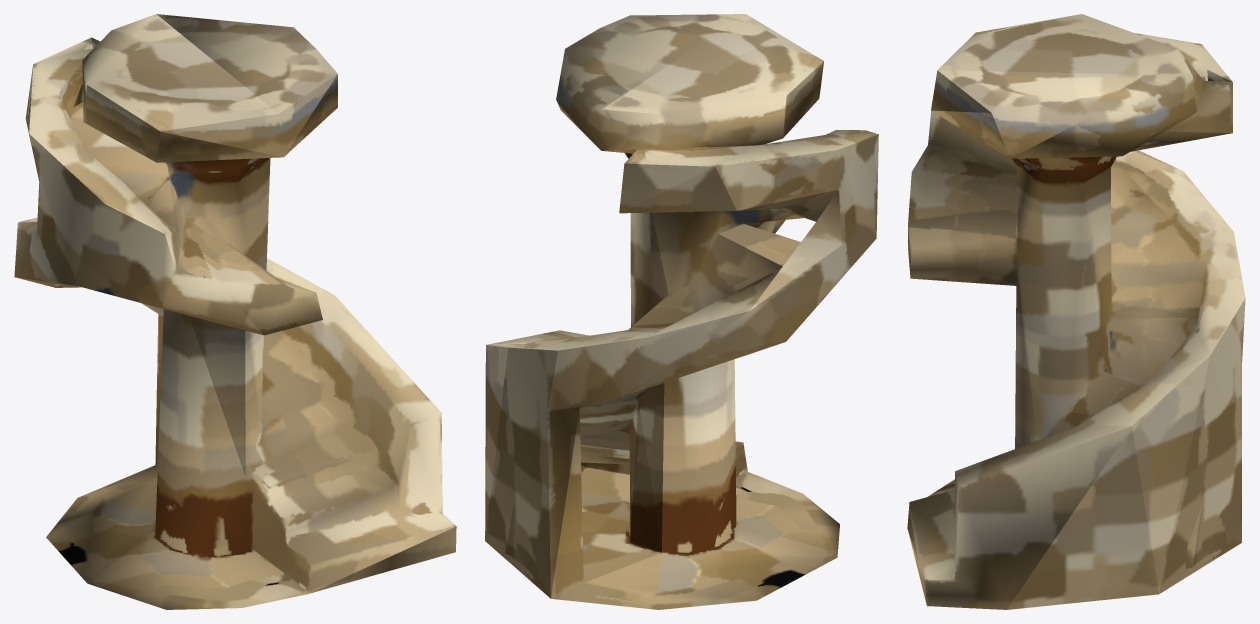
The model's file is stone-spiral-stairwell.glb.
3 renders of one model, left to right at view 1: azimuth 30°, elevation 25°; view 2: azimuth 150°, elevation 25°; view 3: azimuth 270°, elevation 25°, orthographic. The views are drawn at different scales.
Visible parts, largest first — view 1: geometry_0.001; view 2: geometry_0.001; view 3: geometry_0.001.
Part boxes in pixels (x1,y1,x2,y2): geometry_0.001: (14, 14, 456, 609); geometry_0.001: (485, 14, 878, 609); geometry_0.001: (907, 14, 1245, 609).
Bounding box in the file's own units: 0.7472 × 1 × 0.6621.
Materials: 1 (1 with a texture image).
